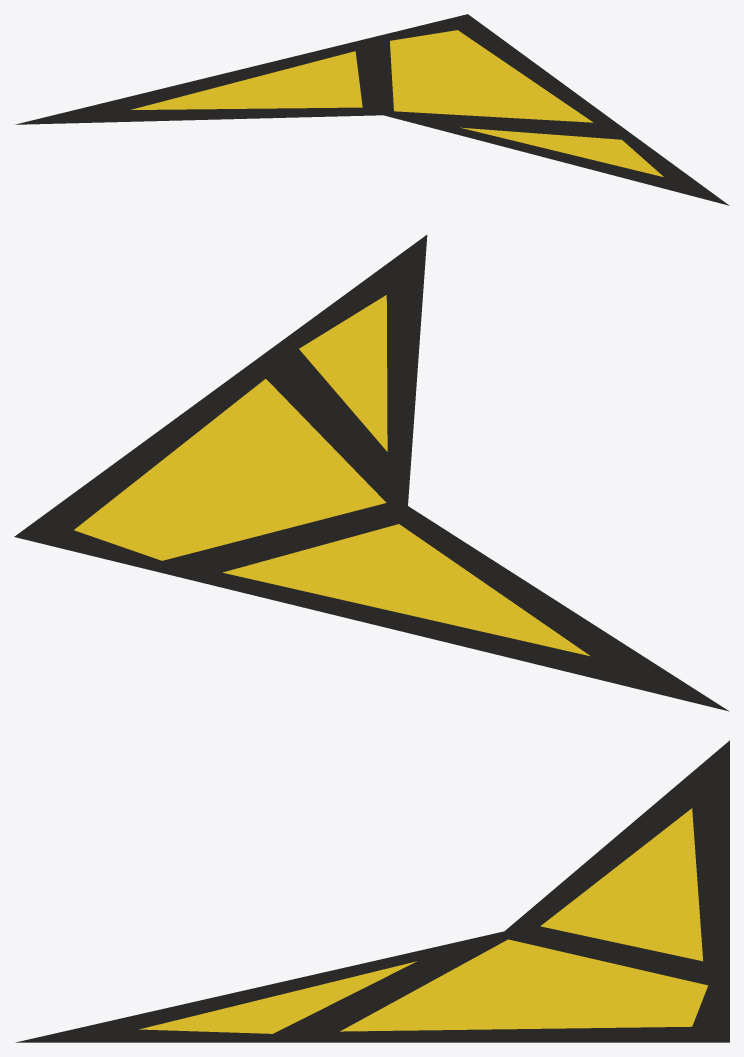
Rendered from Secret ingredients assets 1.fbx.
3 views of the same model, one above another, from view 1: azimuth 30°, elevation 25°; view 2: azimuth 150°, elevation 25°; view 3: azimuth 270°, elevation 25° (orthographic). The views are drawn at different scales.
Visible parts, largest first — view 1: Plane; view 2: Plane; view 3: Plane.
Boxes of the visible parts, x1=… form: Plane: x1=15, y1=14, x2=729, y2=205; Plane: x1=14, y1=235, x2=729, y2=711; Plane: x1=15, y1=740, x2=729, y2=1042.
Size of the model in its own units: 59.65 by 9.72e-06 by 59.65.
